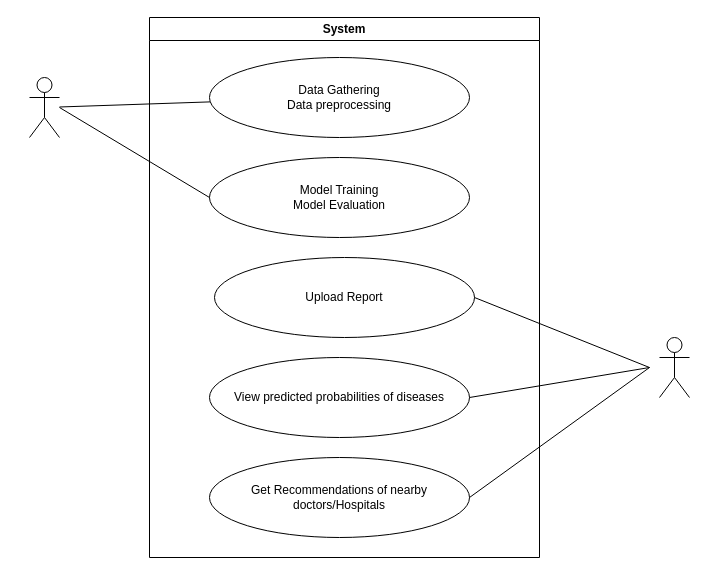
The diagram is 707 pixels wide and 575 high, and some of its shapes have lost their labels. Here are the shapes that lost their labels. From the top down, the centre of each, then its label:
point 44,107: Developer
point 674,367: User
